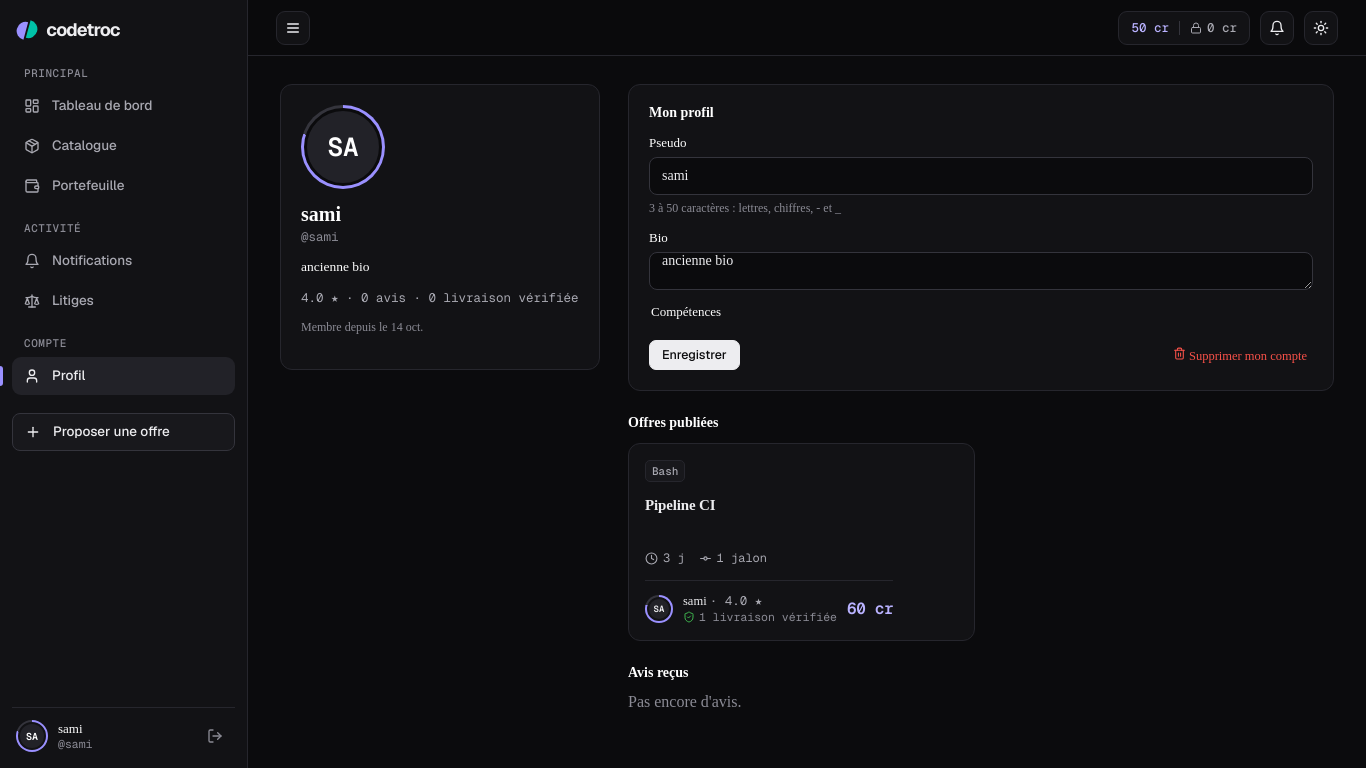
Test: profil (bugs 3 et 4) › rafraîchit la carte publique après « Enregistrer »
Expected: the text "ancienne bio" is shown, x1=301 y1=259 x2=370 y2=274
Replace the text in the text box labelled "Bio" with "nouvelle bio" at (981, 271), box x1=649 y1=252 x2=1313 y2=290
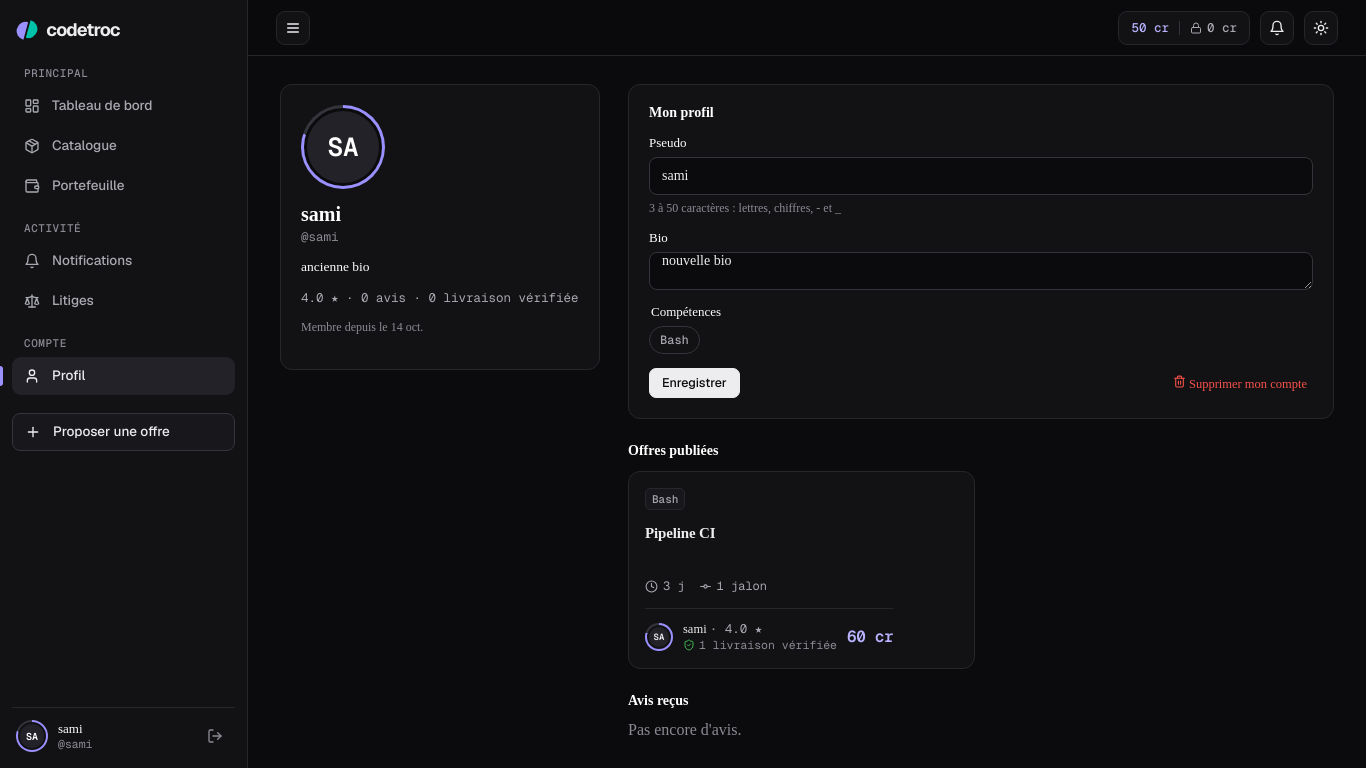
Click the button "Enregistrer".
click(694, 383)  # box x1=649 y1=368 x2=740 y2=398
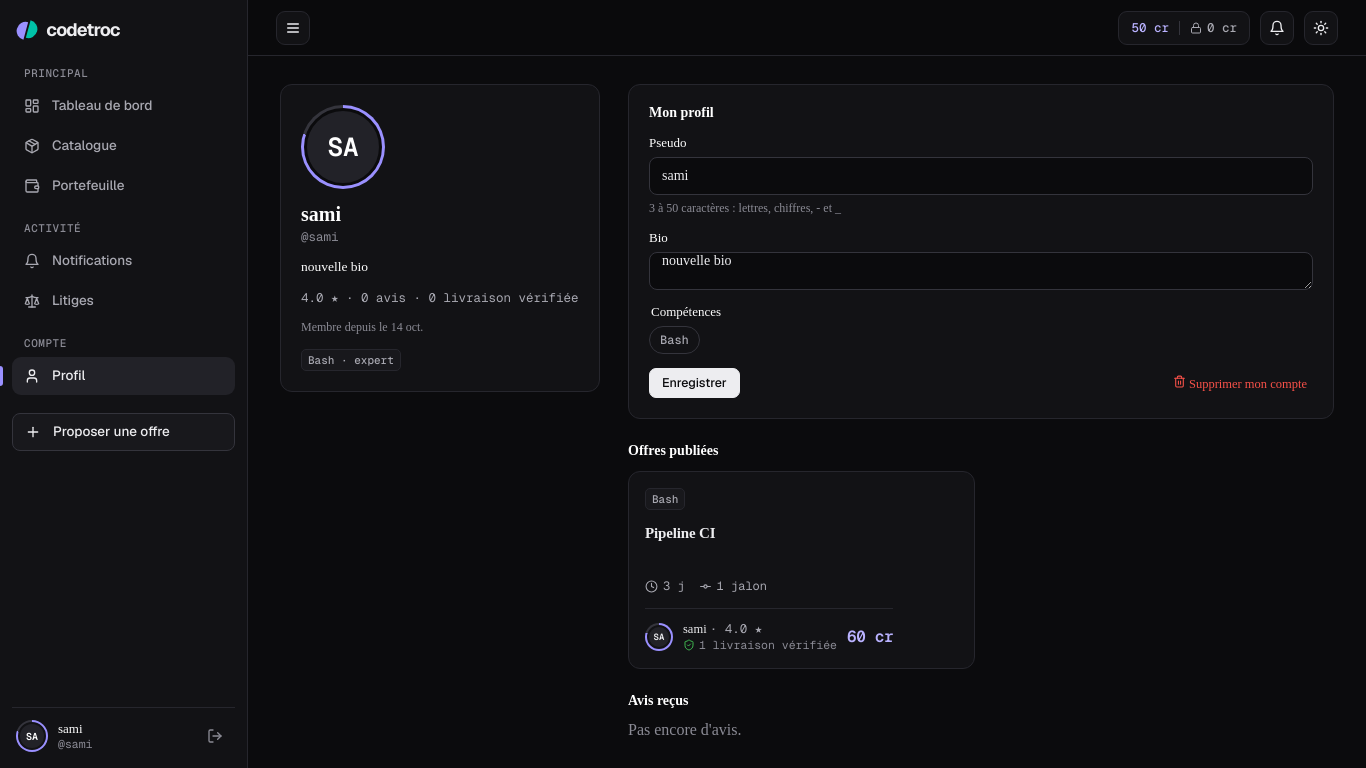
Expected: the text "nouvelle bio" is shown, x1=301 y1=259 x2=368 y2=274
Expected: the text "Bash · expert" is shown, x1=301 y1=349 x2=401 y2=371
